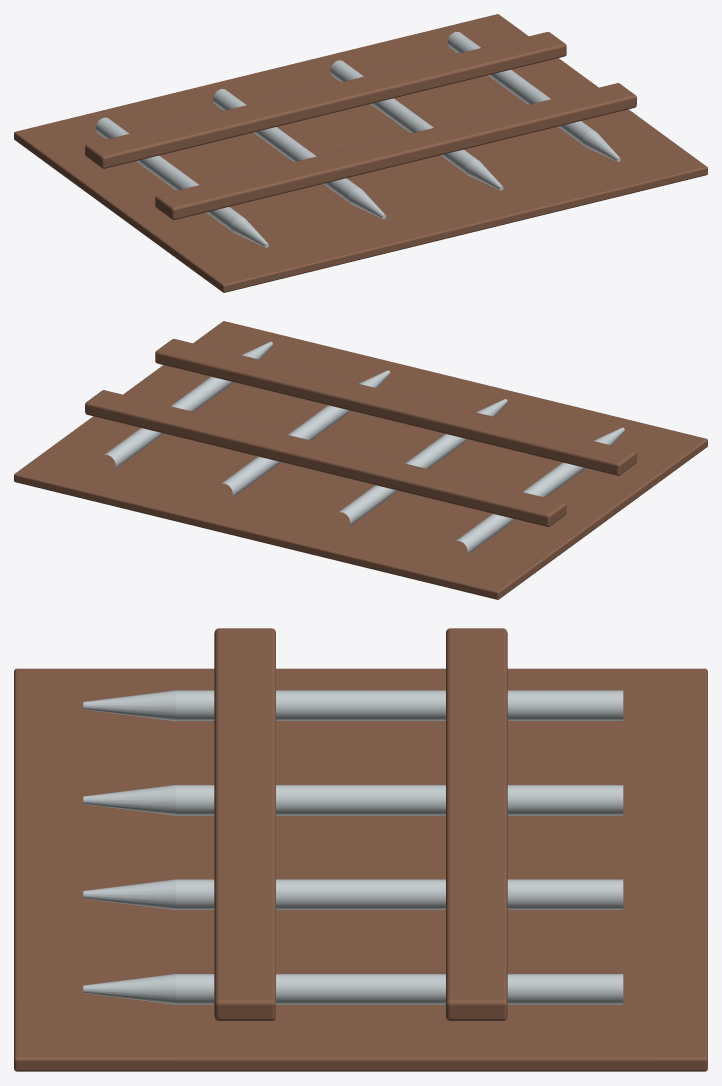
The model's file is tabletop-hobby-store-and-club-sculpting-tool-roll-ed40e1ae__31607.glb.
3 renders of one model, top to bottom at view 1: azimuth 30°, elevation 25°; view 2: azimuth 150°, elevation 25°; view 3: azimuth 270°, elevation 25°, orthographic. The views are drawn at different scales.
Parts seen in each view (by area): view 1: sculpting-tool-roll; view 2: sculpting-tool-roll; view 3: sculpting-tool-roll.
Part boxes in pixels (x1,y1,x2,y2): sculpting-tool-roll: (14, 14, 707, 292); sculpting-tool-roll: (14, 321, 707, 599); sculpting-tool-roll: (14, 628, 707, 1071).
Bounding box in the file's own units: 0.12 × 0.00899 × 0.09.
